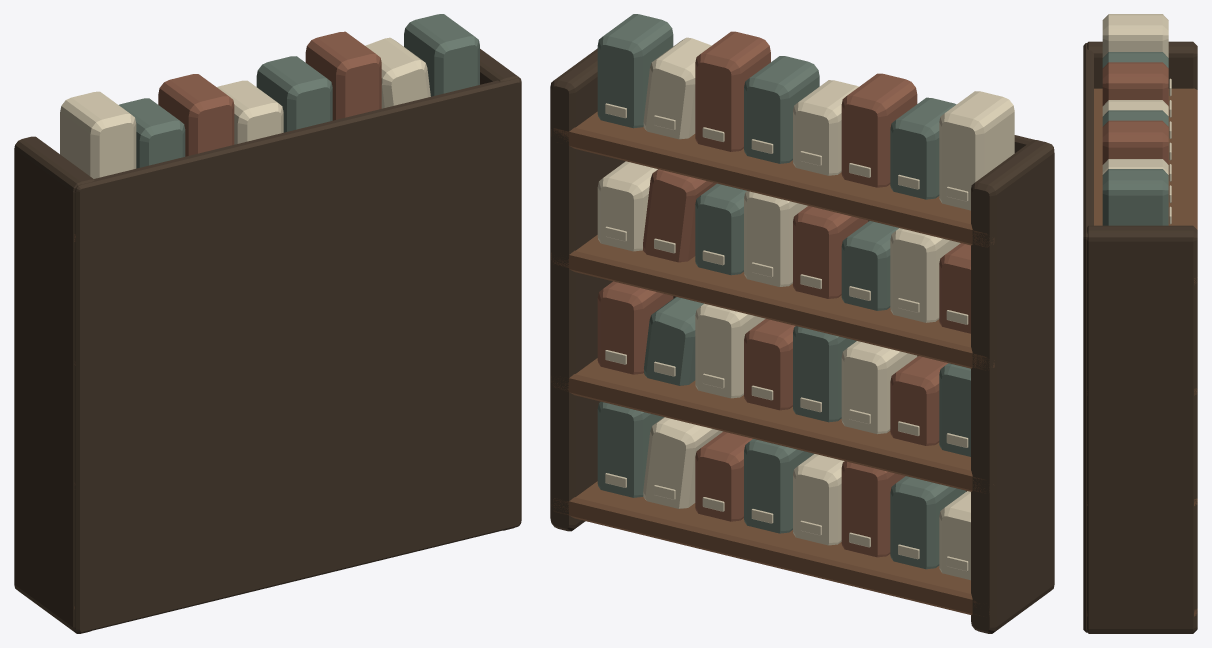
File: shelf.glb
3 renders of one model, left to right at view 1: azimuth 30°, elevation 25°; view 2: azimuth 150°, elevation 25°; view 3: azimuth 270°, elevation 25°, orthographic. The views are drawn at different scales.
Parts seen in each view (by area): view 1: shelf; view 2: shelf; view 3: shelf.
Part boxes in pixels (x1,y1,x2,y2): shelf: (14,14,521,633); shelf: (550,14,1054,633); shelf: (1083,14,1197,633).
Bounding box in the file's own units: 2.65 × 2.81 × 0.655.
